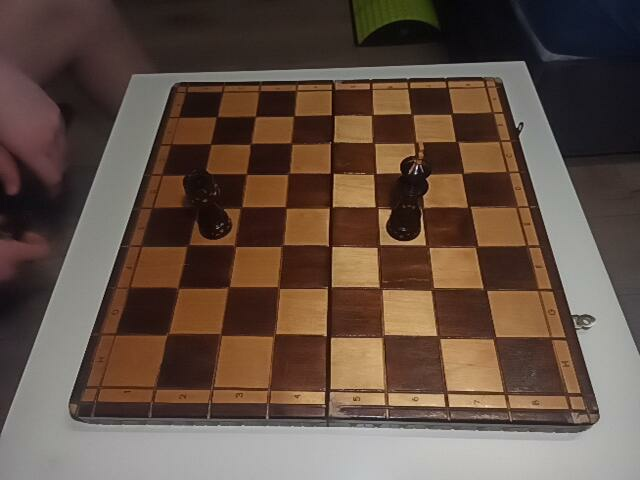B-King: (388, 141, 431, 242)
B-Rook: (183, 168, 231, 241)
